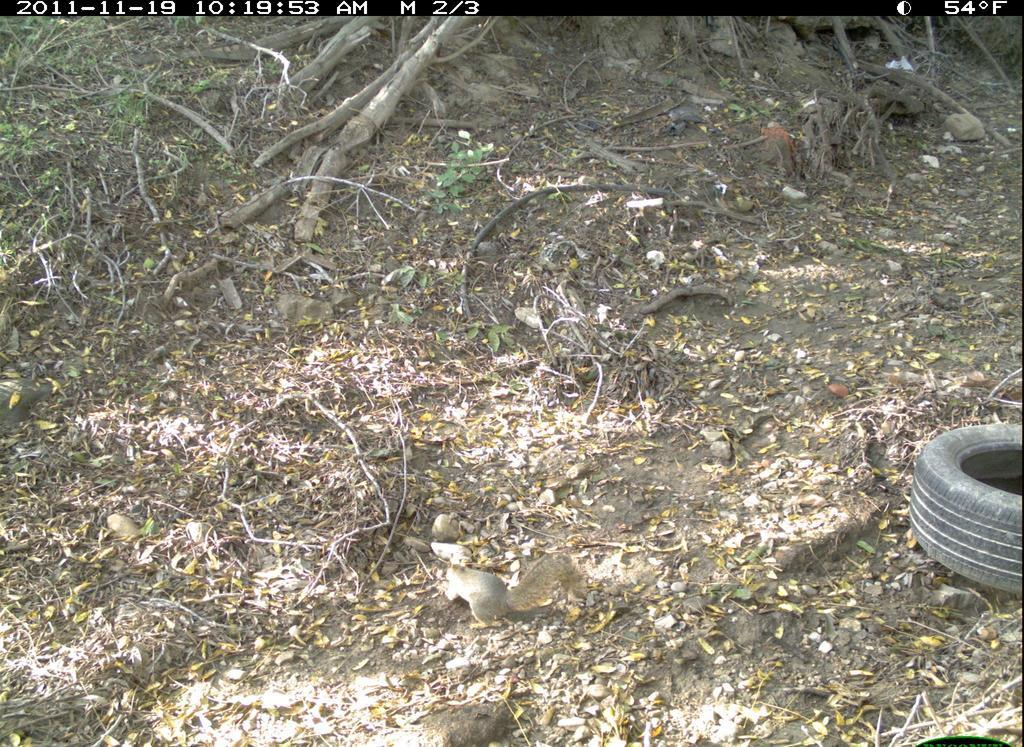squirrel: (415, 542, 583, 643)
